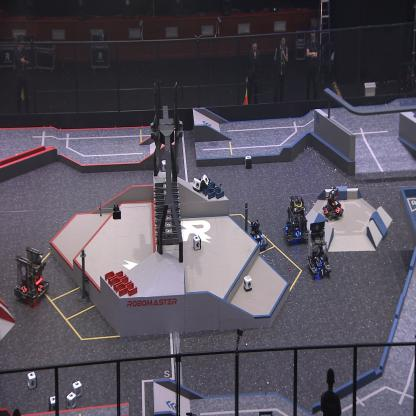car: (14, 246, 50, 304), (305, 220, 331, 278), (282, 193, 308, 243), (323, 186, 344, 219), (248, 220, 266, 254)
